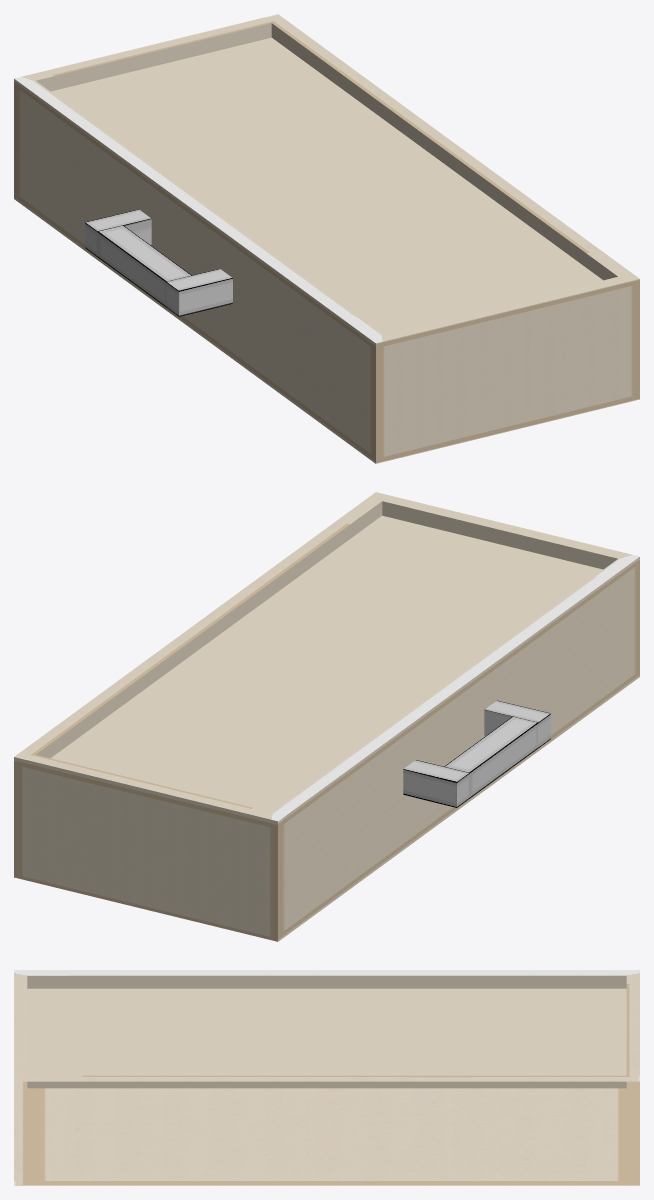
File: Wardrobe_Drawer.fbx
The picture shows the model from 3 angles, top to bottom: view 1: azimuth 30°, elevation 25°; view 2: azimuth 150°, elevation 25°; view 3: azimuth 270°, elevation 25°; orthographic projection. The views are drawn at different scales.
Parts seen in each view (by area): view 1: Wardrobe_Drawer; view 2: Wardrobe_Drawer; view 3: Wardrobe_Drawer.
Boxes of the visible parts, x1,y1,x2,y2 form: Wardrobe_Drawer: [14, 14, 639, 463]; Wardrobe_Drawer: [14, 492, 639, 941]; Wardrobe_Drawer: [14, 970, 639, 1185].
Bounding box in the file's own units: 47.26 × 17.11 × 93.13.
